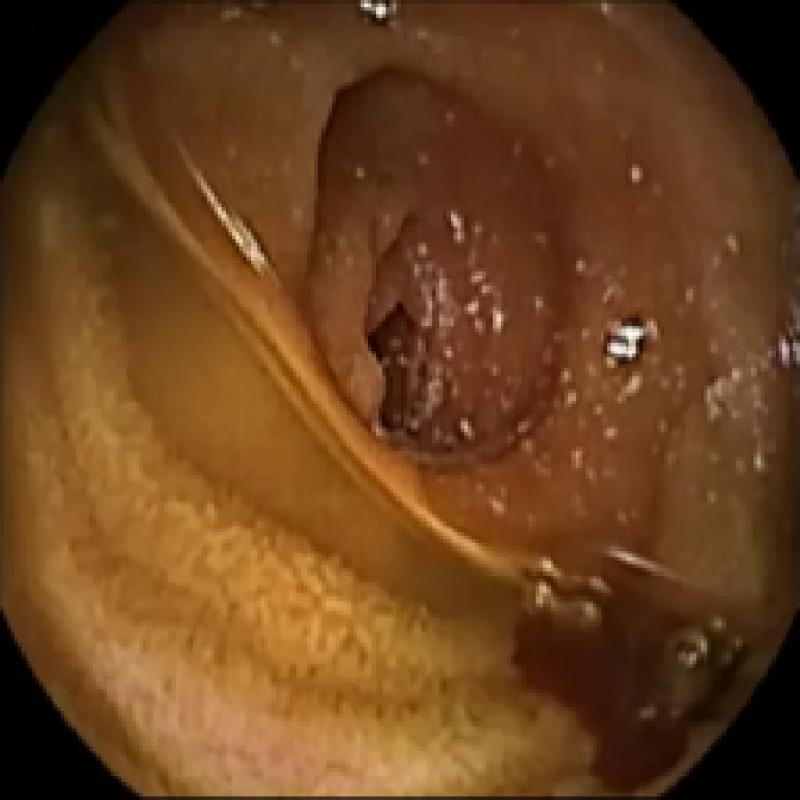bleeding: (507, 611, 739, 793)
